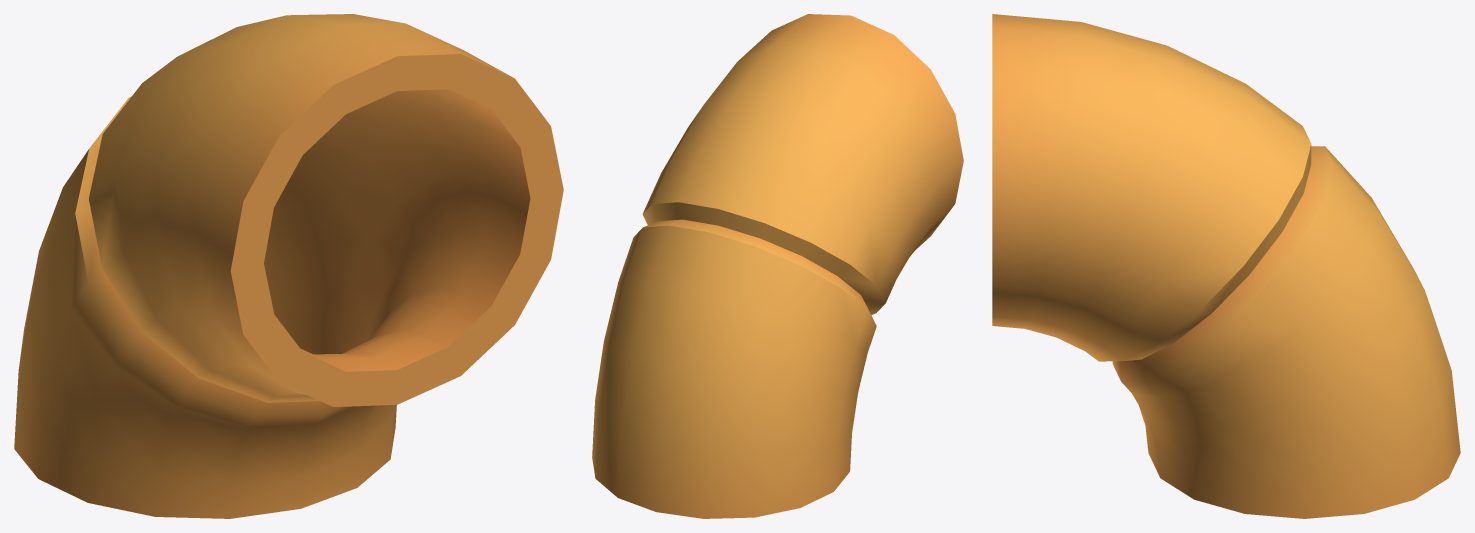
The model's file is kaykit_pipe_90_B_yellow.glb.
3 renders of one model, left to right at view 1: azimuth 30°, elevation 25°; view 2: azimuth 150°, elevation 25°; view 3: azimuth 270°, elevation 25°, orthographic. The views are drawn at different scales.
Visible parts, largest first — view 1: pipe_90_B_yellow_visual; view 2: pipe_90_B_yellow_visual; view 3: pipe_90_B_yellow_visual.
Part boxes in pixels (box(x1,y1,x2,y2)): pipe_90_B_yellow_visual: box(14, 14, 563, 518); pipe_90_B_yellow_visual: box(592, 14, 963, 518); pipe_90_B_yellow_visual: box(992, 14, 1460, 518).
Size of what is drawn, in the model's own units: 2 by 3 by 3.
Materials: 1 (1 with a texture image).
